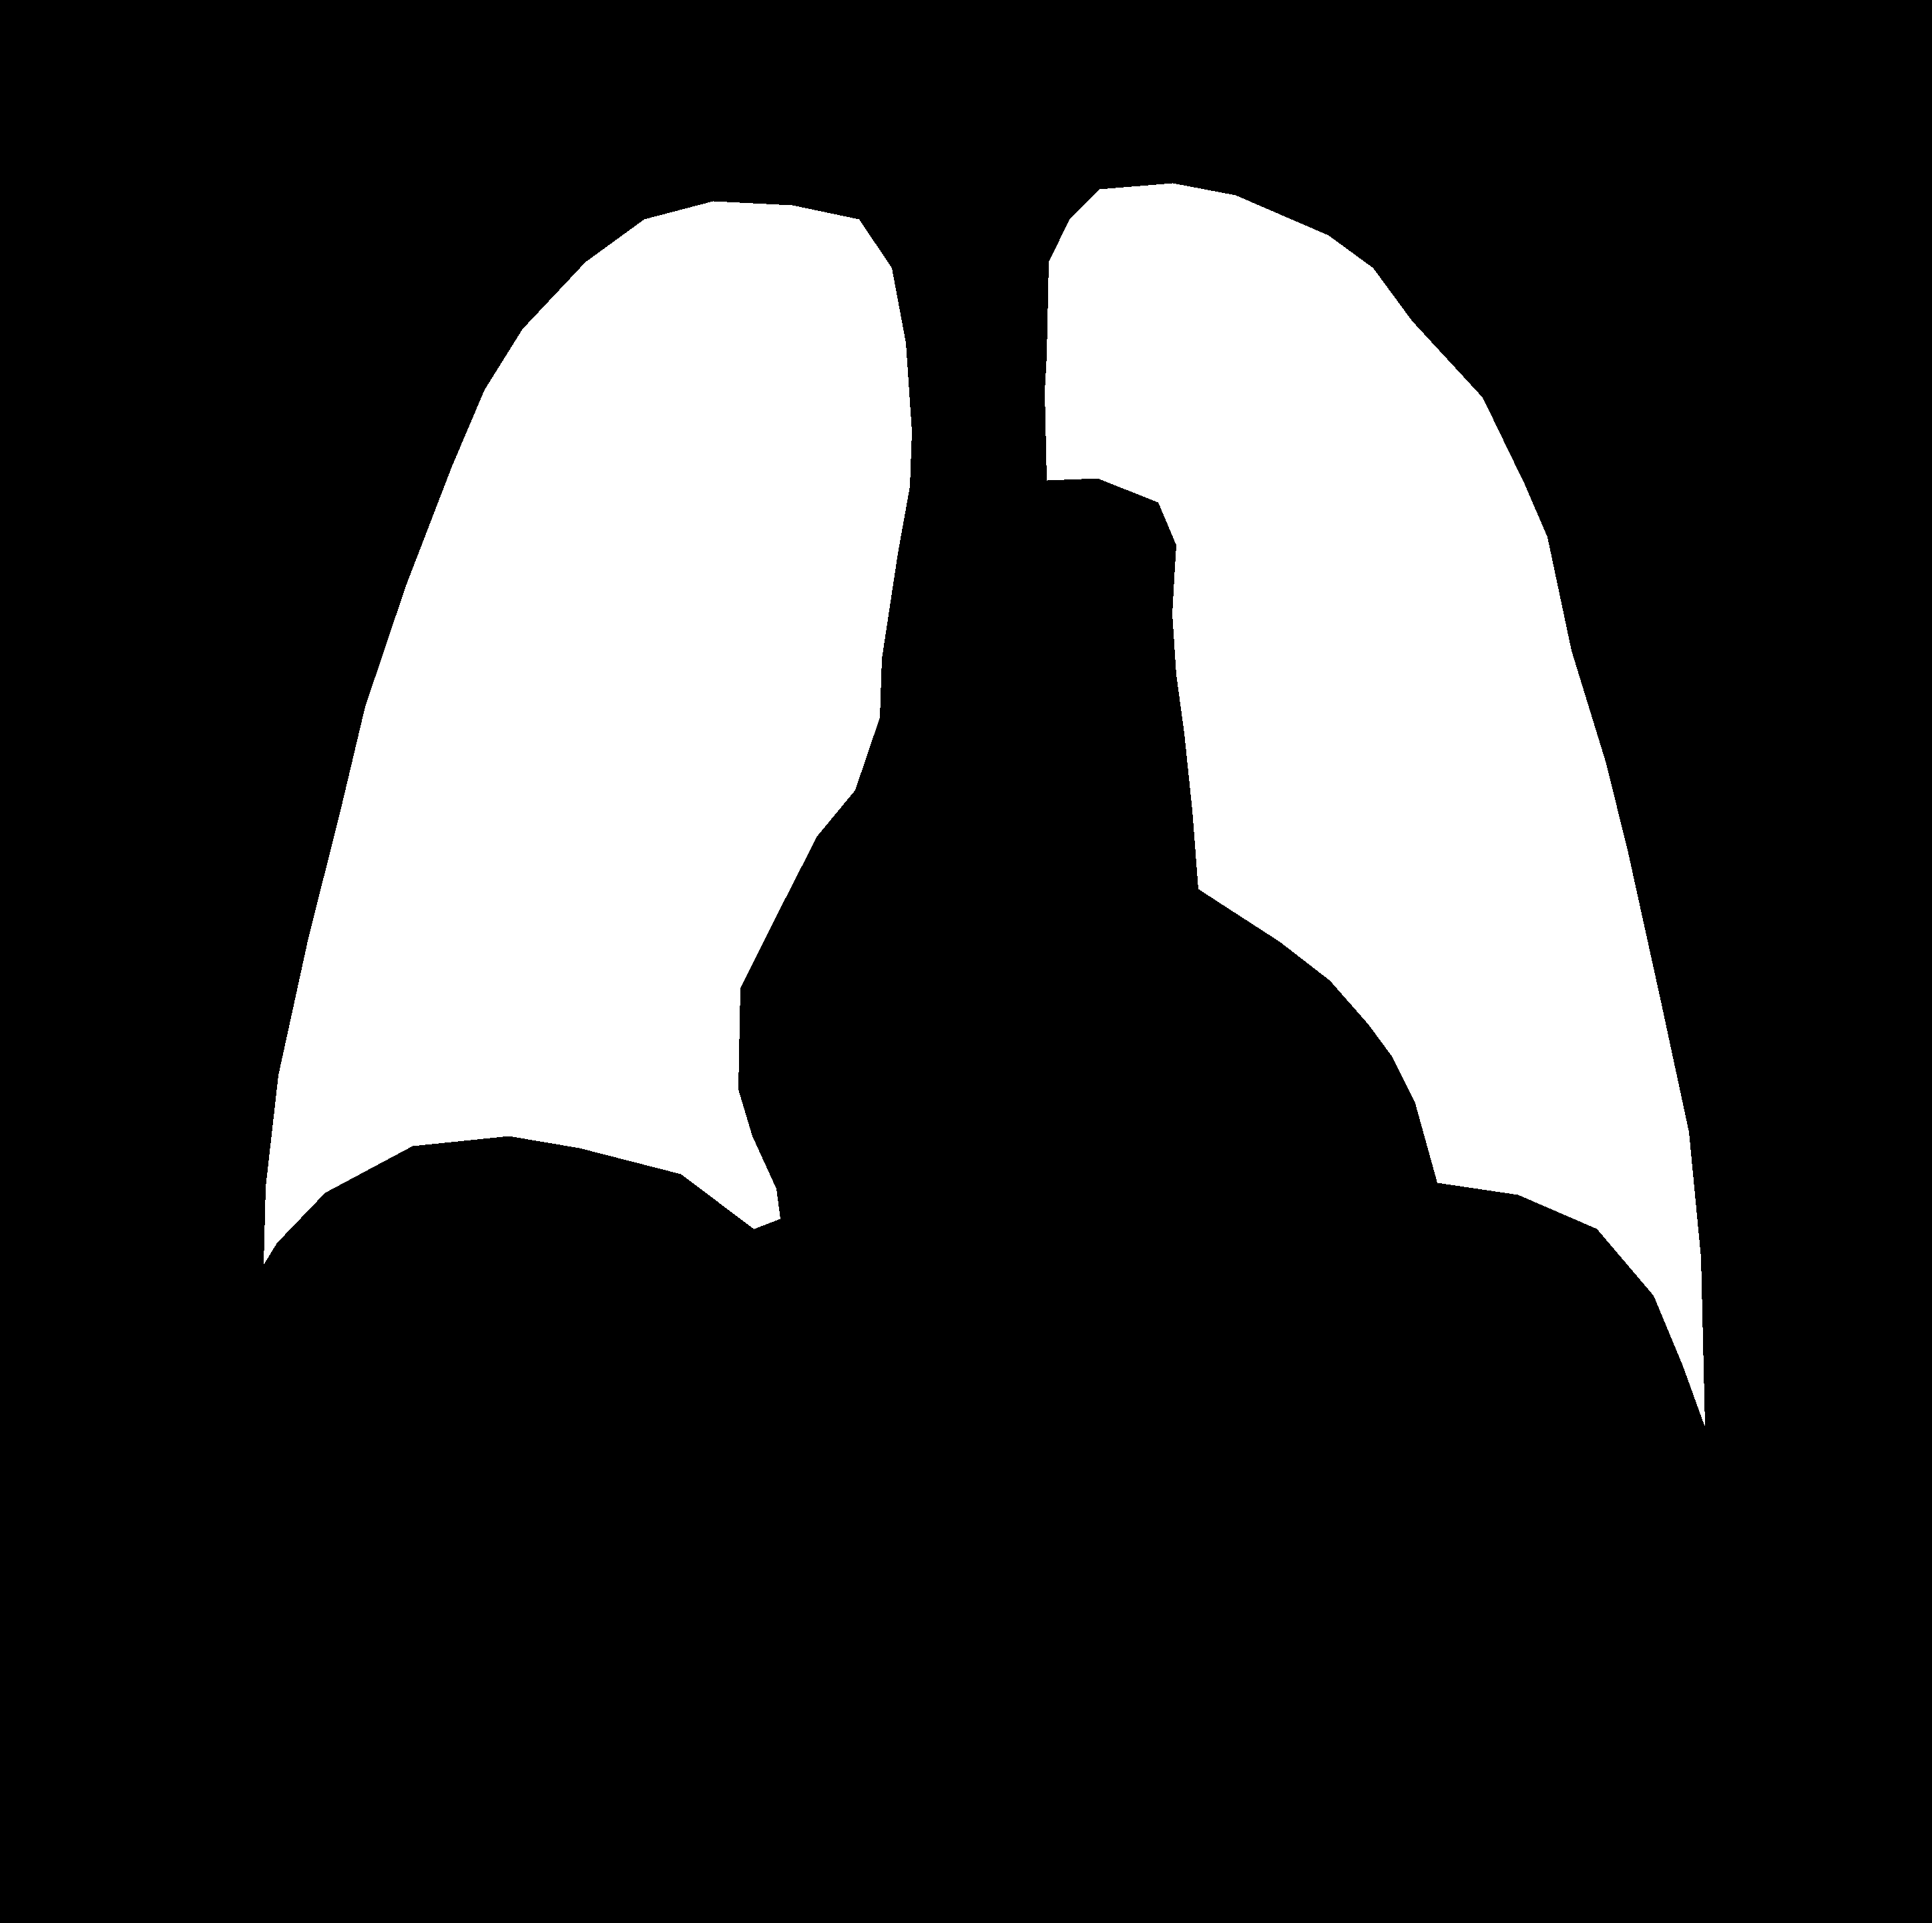heart: (736, 722, 1430, 1367)
left_lung: (264, 201, 911, 1263)
right_lung: (1044, 183, 1705, 1425)
